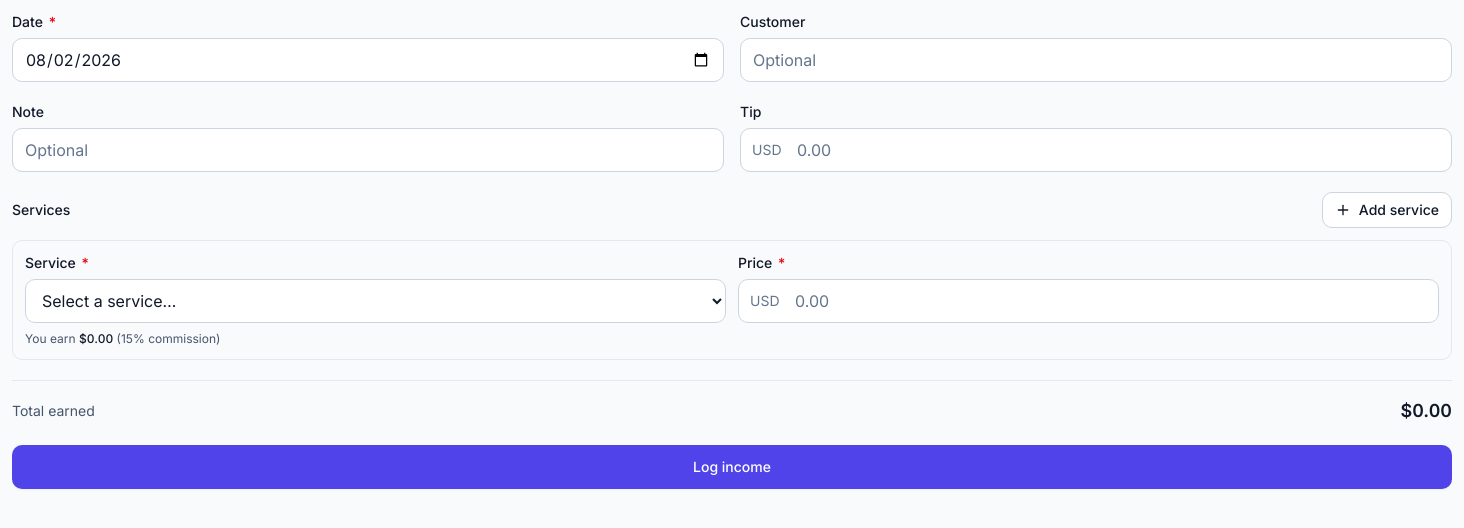
Test case: EntryForm › rejects a non-positive price
Select "Haircut" in the dropdown labelled "Service *": (376, 301) x1=25 y1=279 x2=726 y2=323
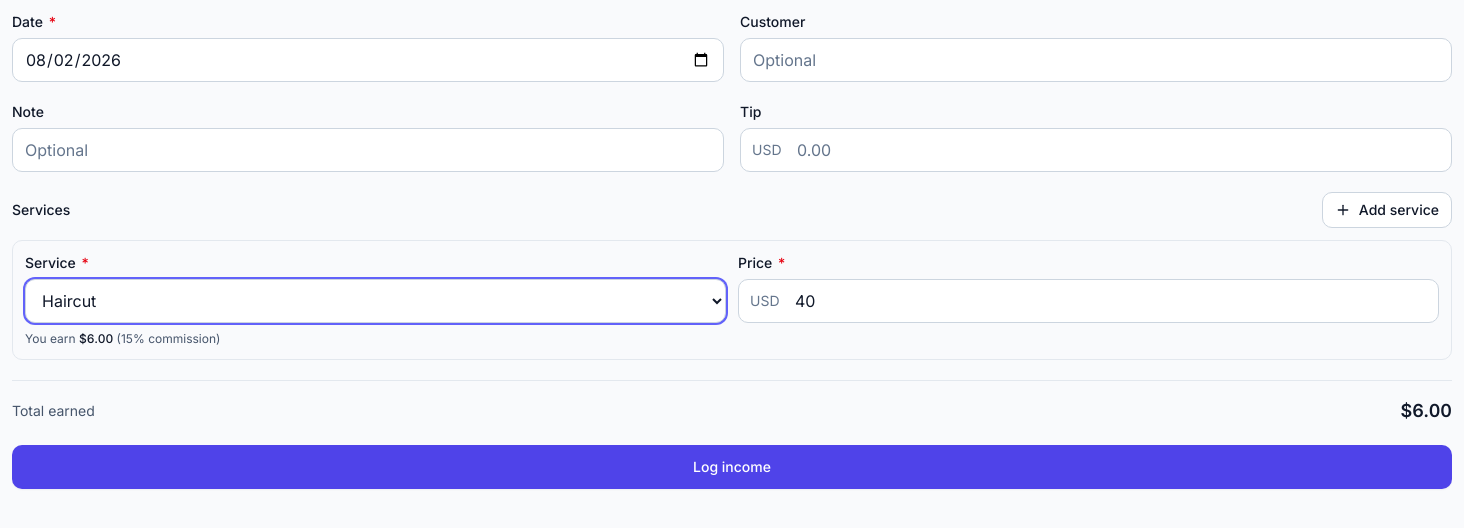
Replace the text in the number field labelled "Price *" with "0": (1088, 301) x1=738 y1=279 x2=1439 y2=323
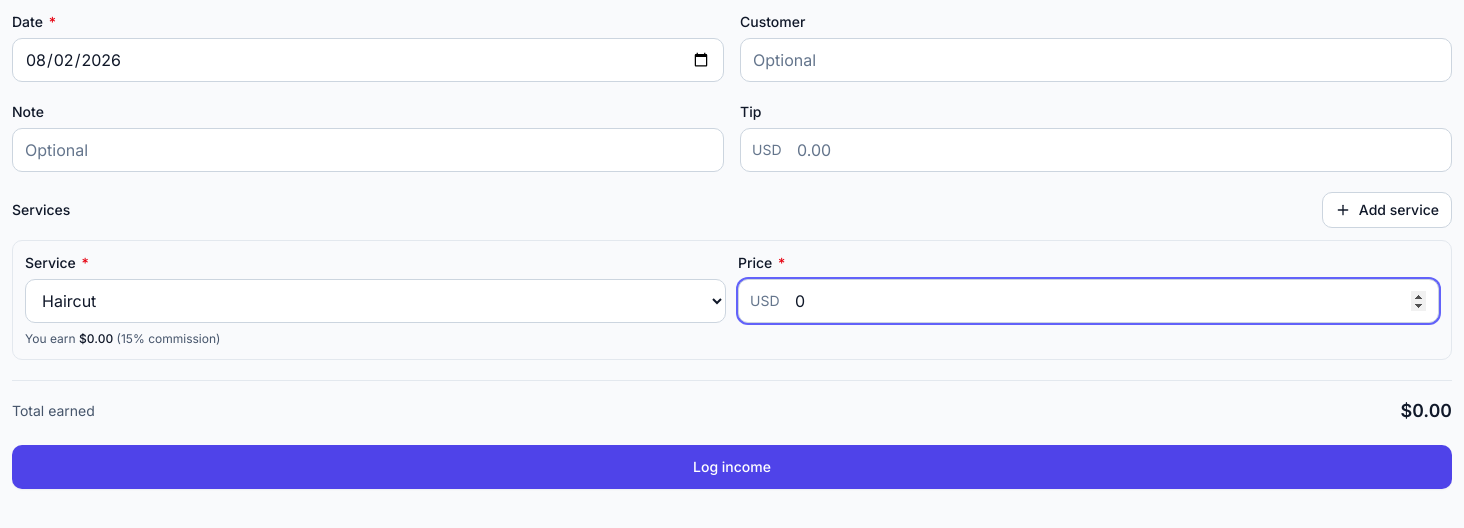
Click the button "Log income": (732, 467) x1=12 y1=445 x2=1452 y2=489
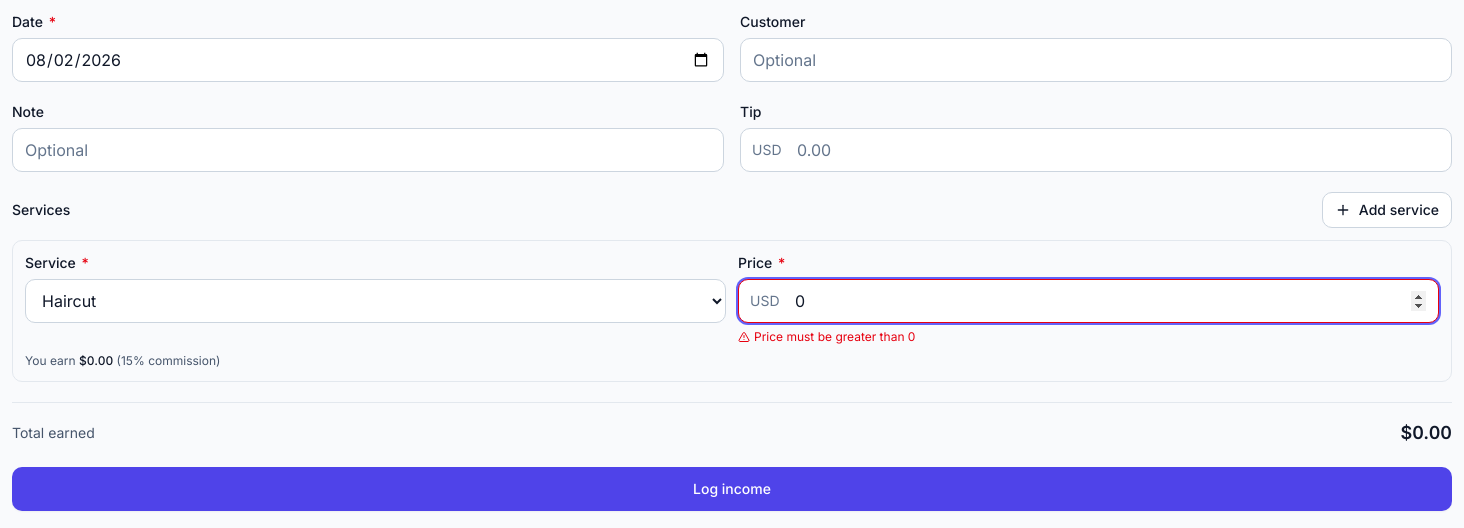
Check: the text "Price must be greater than 0" is shown, box x1=738 y1=329 x2=915 y2=344
